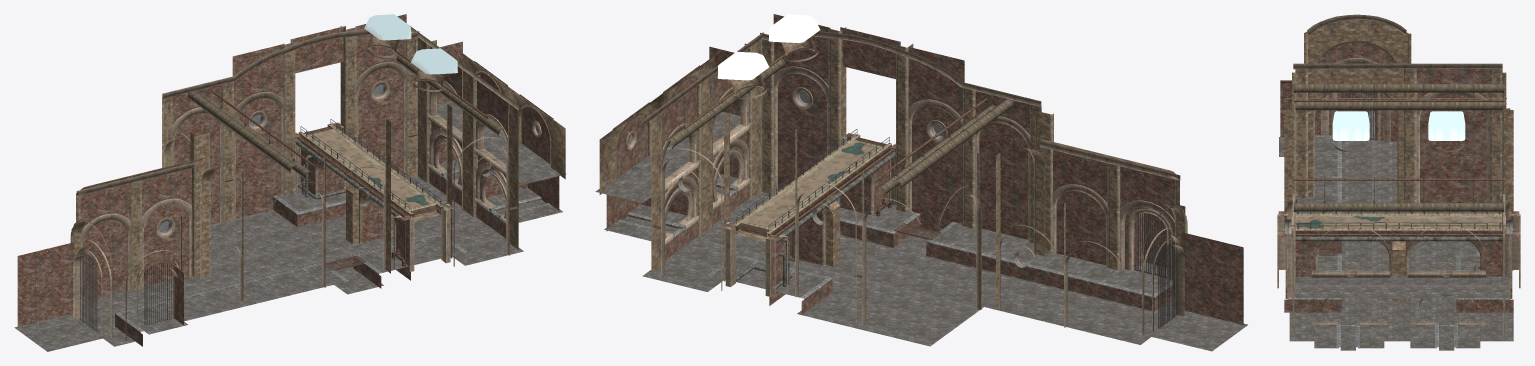
The model's file is t3_road_line_e.glb.
3 renders of one model, left to right at view 1: azimuth 30°, elevation 25°; view 2: azimuth 150°, elevation 25°; view 3: azimuth 270°, elevation 25°, orthographic. The views are drawn at different scales.
Visible parts, largest first — view 1: um_t3_road_line_e_model_t3_road_line_e_modelShape; view 2: um_t3_road_line_e_model_t3_road_line_e_modelShape; view 3: um_t3_road_line_e_model_t3_road_line_e_modelShape.
Part boxes in pixels (left/top/right/bottom): um_t3_road_line_e_model_t3_road_line_e_modelShape: left=14, top=14, right=566, bottom=351; um_t3_road_line_e_model_t3_road_line_e_modelShape: left=595, top=14, right=1247, bottom=351; um_t3_road_line_e_model_t3_road_line_e_modelShape: left=1277, top=14, right=1520, bottom=350.
Bounding box in the file's own units: 79.31 × 29.82 × 31.81.
11 materials, 11 textured.
